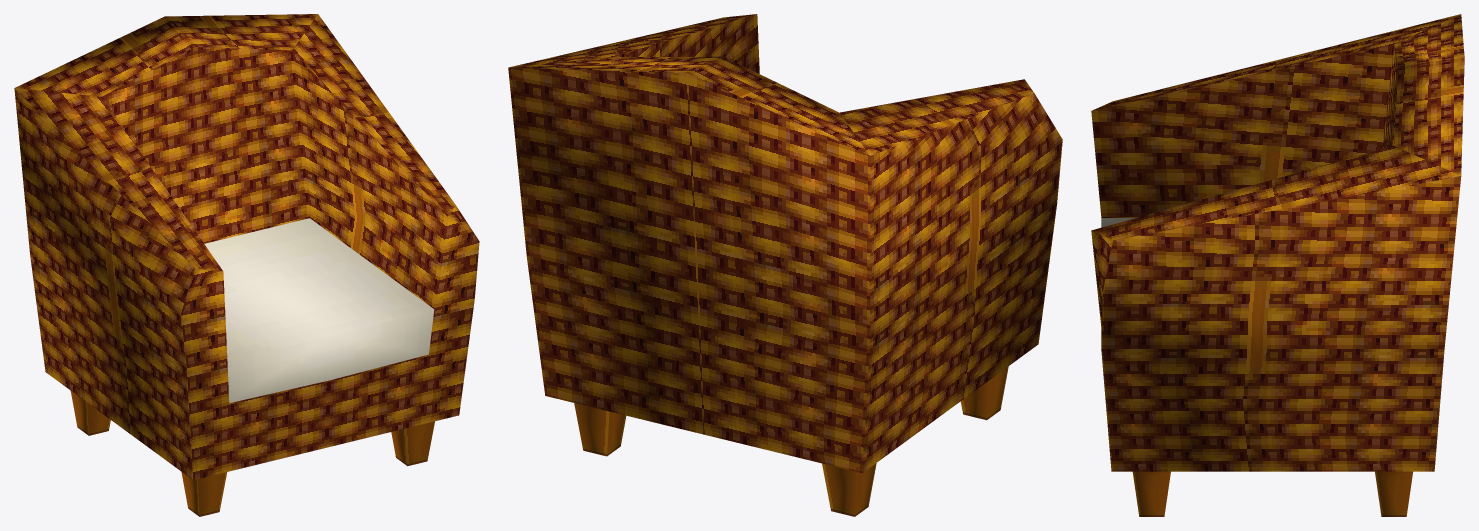
Rendered from rmk_rst_chairS01_mtl.dae.
The picture shows the model from 3 angles, left to right: view 1: azimuth 30°, elevation 25°; view 2: azimuth 150°, elevation 25°; view 3: azimuth 270°, elevation 25°; orthographic projection. The views are drawn at different scales.
Visible parts, largest first — view 1: rmk_rst_chairS01_mtl; view 2: rmk_rst_chairS01_mtl; view 3: rmk_rst_chairS01_mtl.
Boxes of the visible parts, x1,y1,x2,y2 form: rmk_rst_chairS01_mtl: (14,14,479,516); rmk_rst_chairS01_mtl: (508,14,1062,516); rmk_rst_chairS01_mtl: (1091,14,1464,516).
Size of the model in its own units: 30.4 by 34.79 by 29.6.
2 materials, 2 textured.
